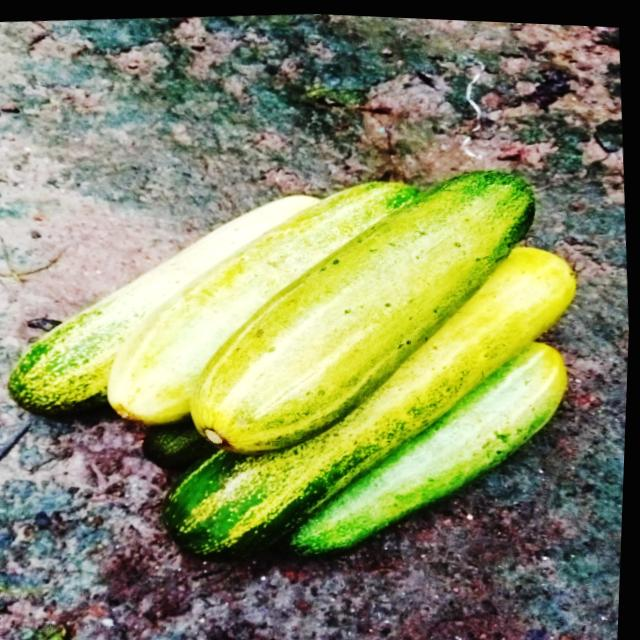Fresh-Cucumber: (0, 136, 603, 589)
